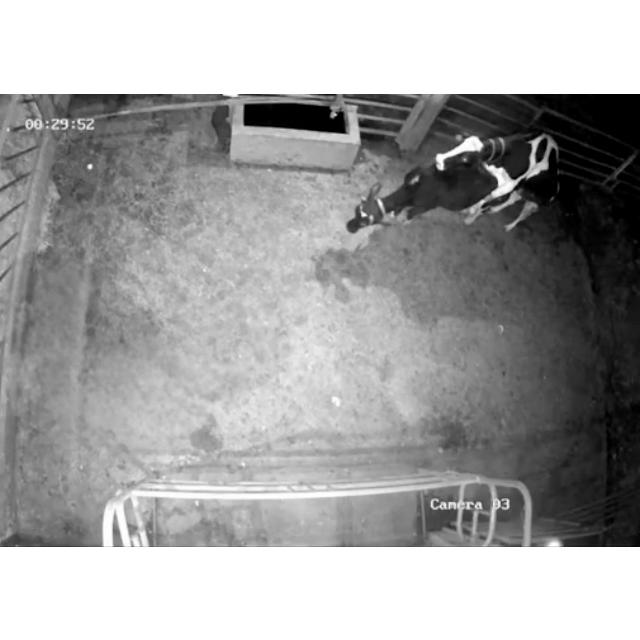ride: (433, 117, 571, 245)
